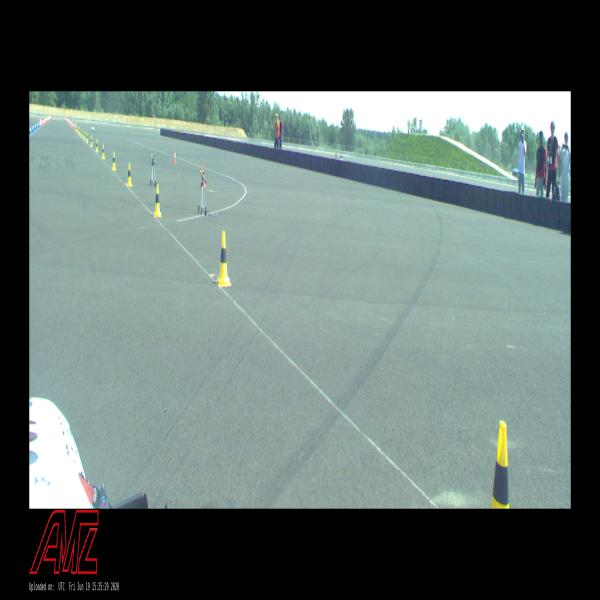blue_cone: (29, 125, 32, 134), (32, 124, 34, 132), (34, 122, 36, 130), (36, 122, 38, 128), (38, 121, 40, 127)
large_orange_cone: (75, 120, 76, 130), (40, 117, 41, 126)
orange_cone: (201, 167, 206, 187), (174, 150, 176, 162)
yellow_cone: (491, 421, 510, 508), (216, 231, 231, 286), (154, 184, 162, 216), (127, 163, 132, 186), (112, 152, 116, 170), (102, 145, 105, 158), (95, 140, 98, 152), (90, 136, 93, 146), (86, 133, 88, 142), (83, 131, 85, 139), (81, 129, 83, 137), (77, 126, 79, 132), (79, 127, 80, 135), (76, 125, 77, 131)
